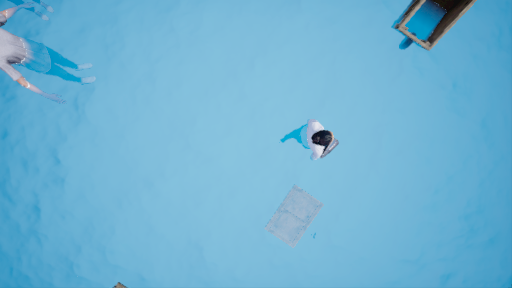person: (2, 7, 100, 110), (287, 114, 334, 159)
